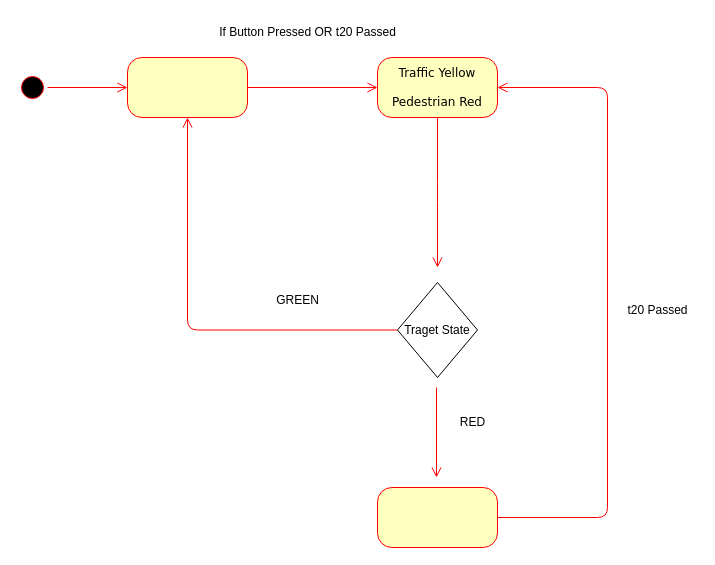
This 715x565 diagram has some shape labels left out. Each missing label, with the centre of its shape:
"Traffic Green Pedestrian Red" belongs at point 187,87.
"Traffic Red Pedestrian Green" belongs at point 437,517.
